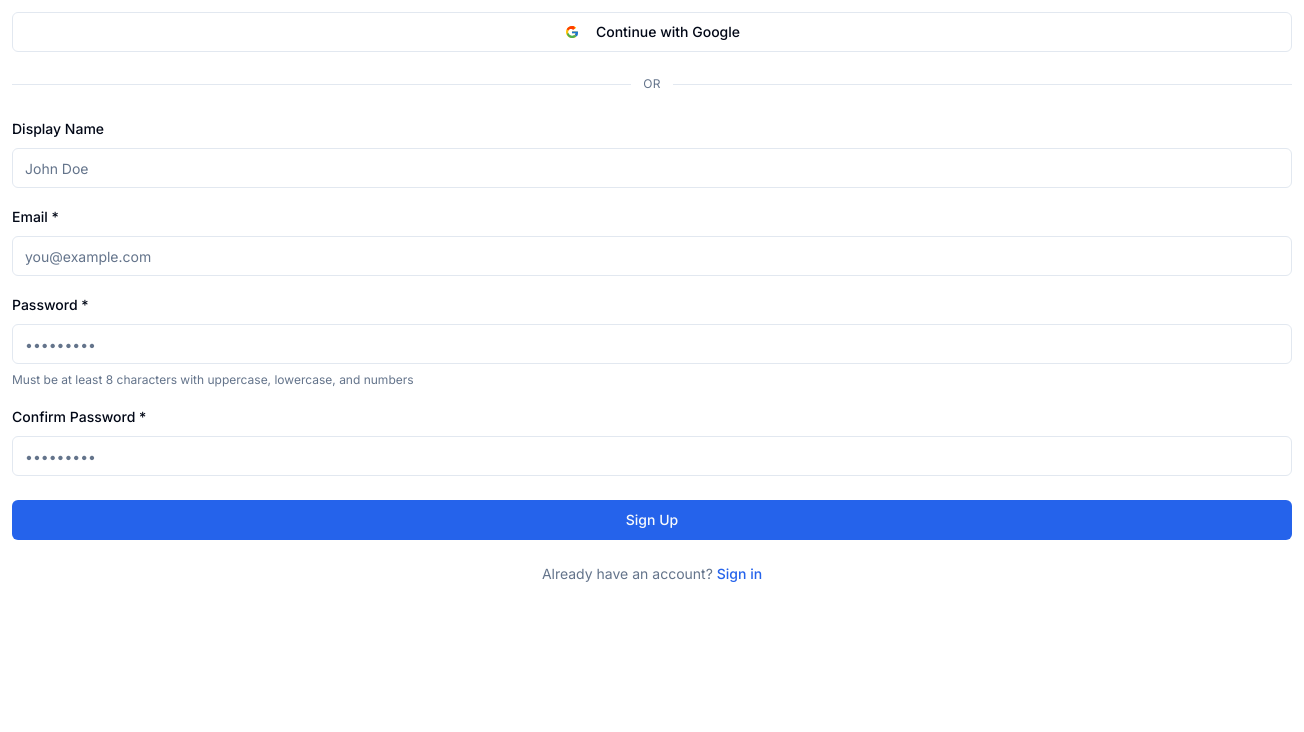
Test: SignUpForm › shows validation error for weak password
In the password field labelled "Password *": (652, 344) [12,324,1292,364], type "weak"
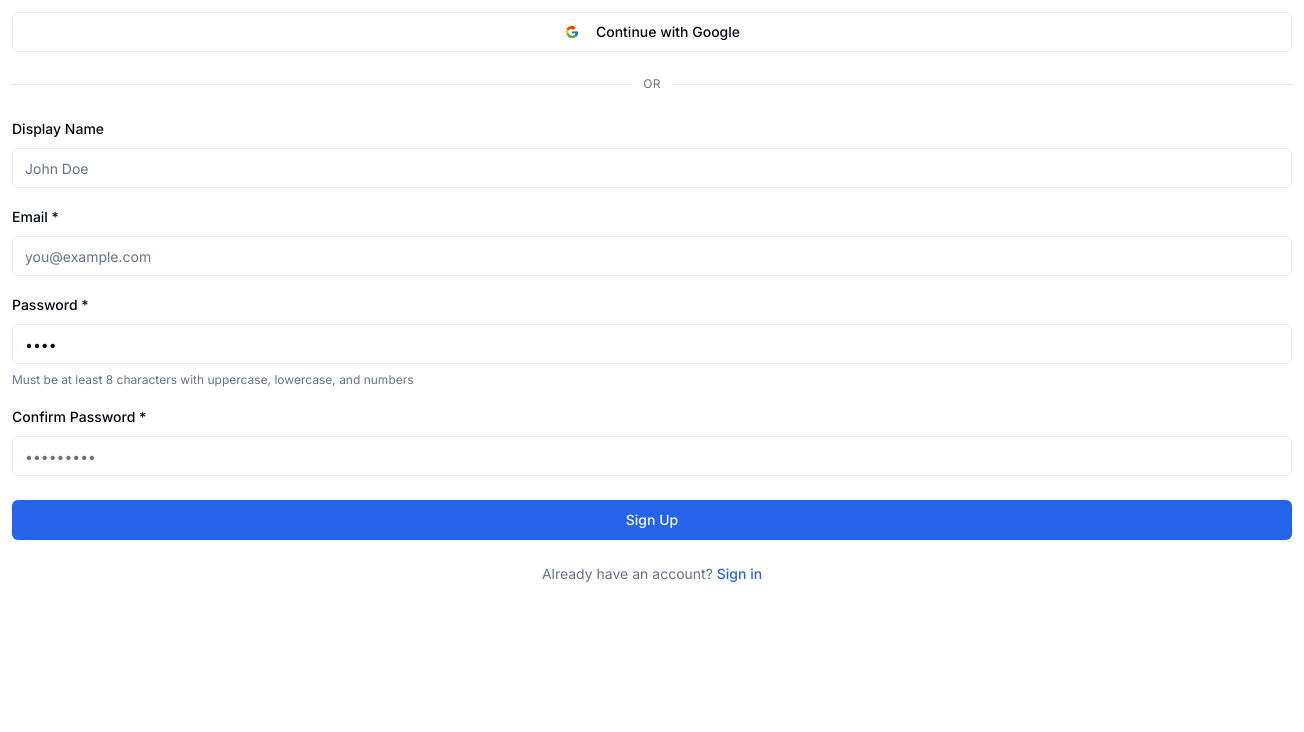
Click the button "Sign Up": (652, 520) [12,500,1292,540]
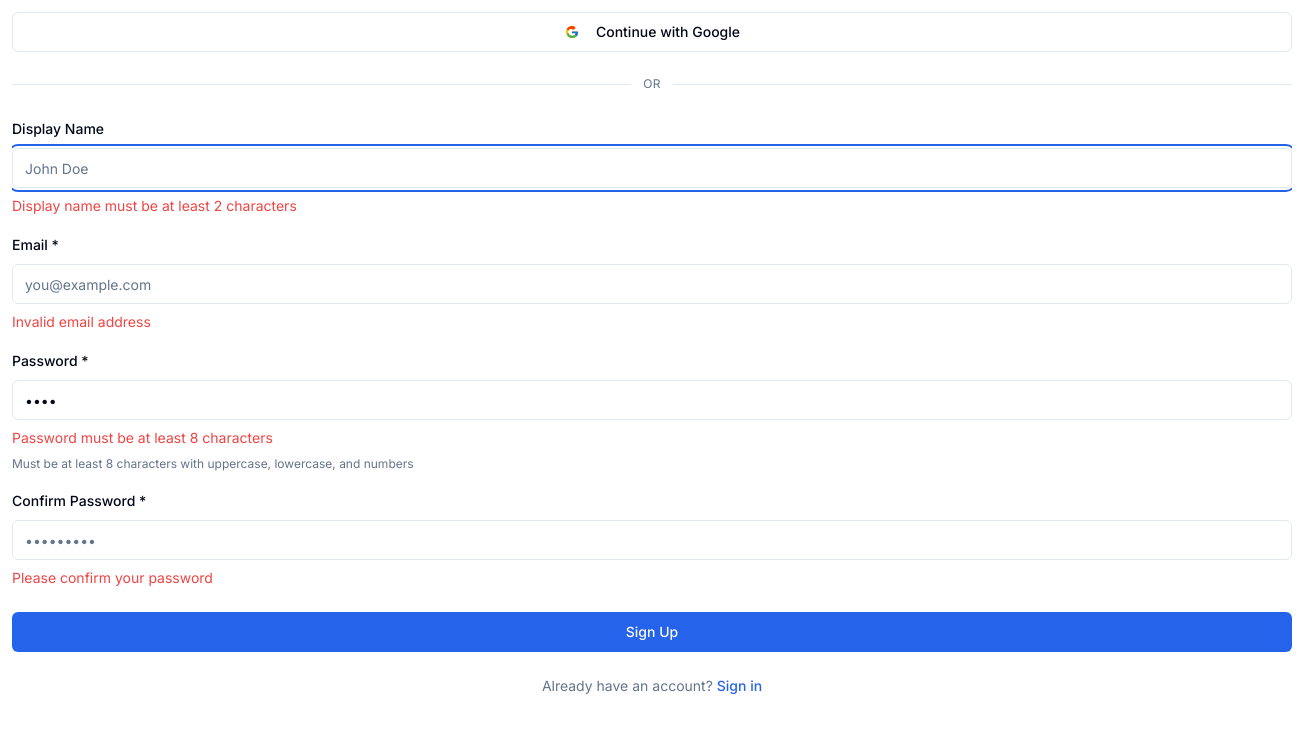
Now the text "Password must be at least 8 characters" is shown, box [12,429,273,446]
